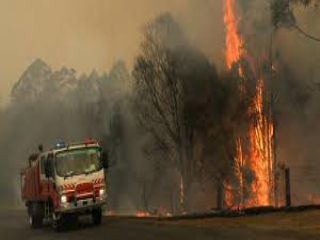fire: (232, 82, 285, 202), (213, 7, 252, 71)
